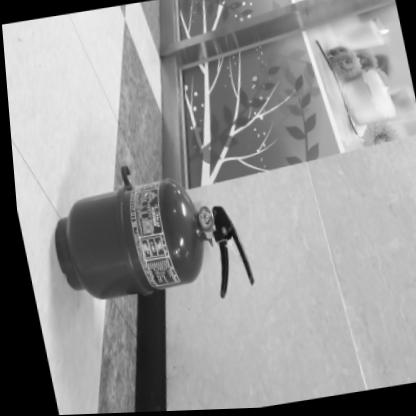FE: (39, 175, 253, 321)
